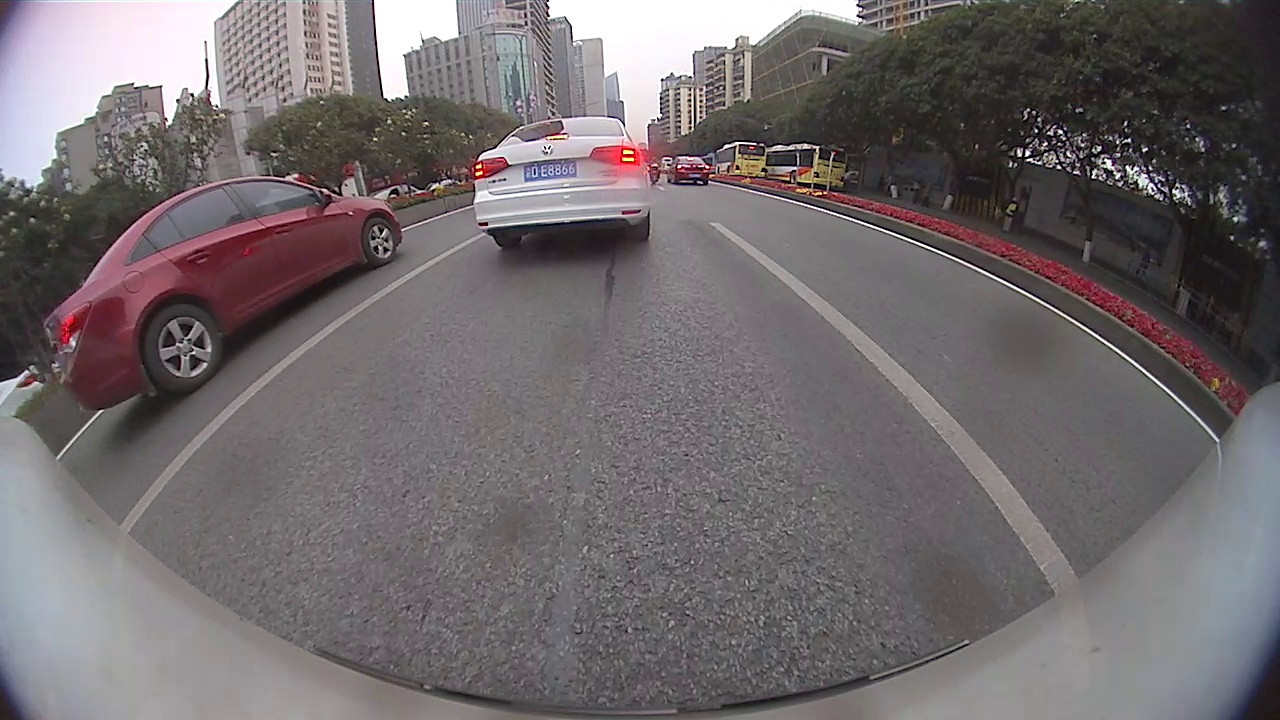bus: (765, 144, 851, 189), (709, 141, 766, 180)
car: (41, 174, 404, 415), (473, 113, 652, 252), (0, 368, 44, 419), (669, 155, 709, 185)
front: (360, 217, 399, 264)
rear: (140, 301, 224, 394)
rider: (647, 150, 663, 189)
